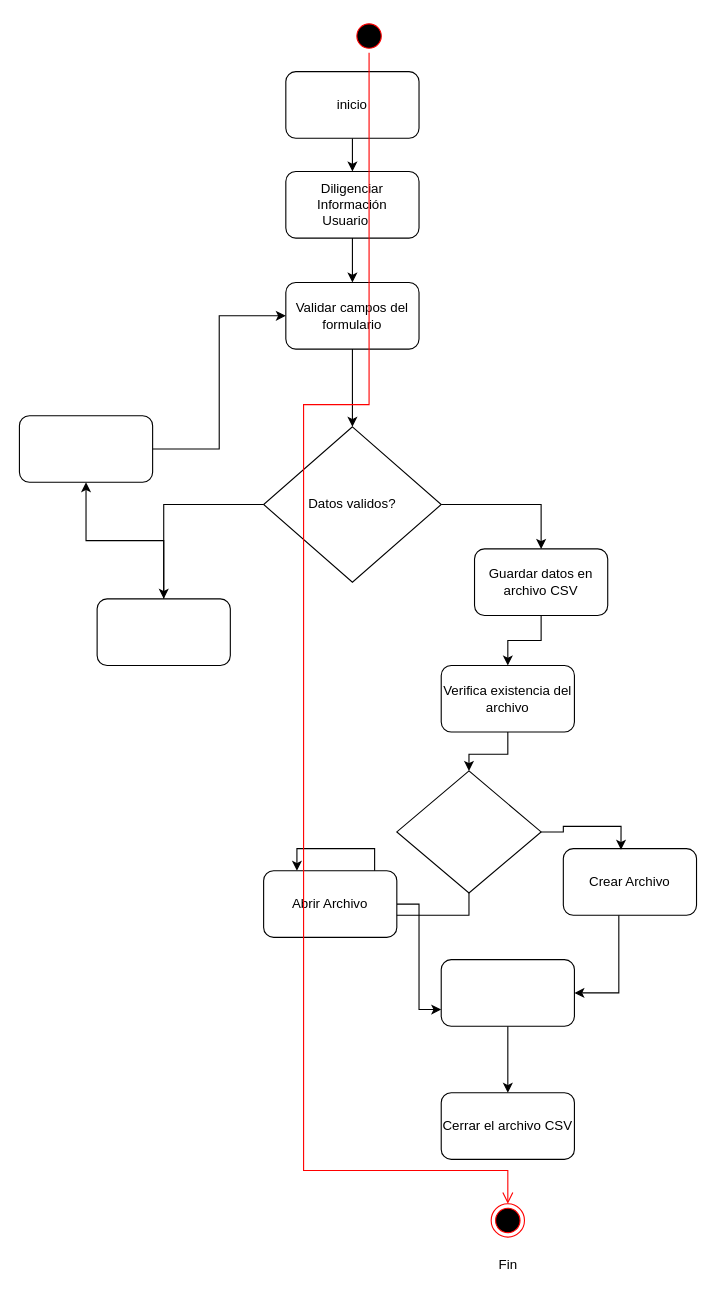
This 716x1301 diagram has some shape labels left out. Each missing label, with the centre of its shape:
Archivo CSV Existe: point (468, 831)
Escribir Datos en archivo CSV: point (507, 992)
Mostrar Mensaje de Error: point (163, 631)
Soliciar ingresar nuevamente: point (85, 448)
